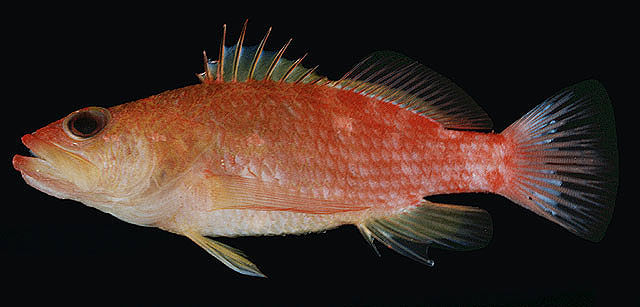fish: (13, 19, 613, 278)
